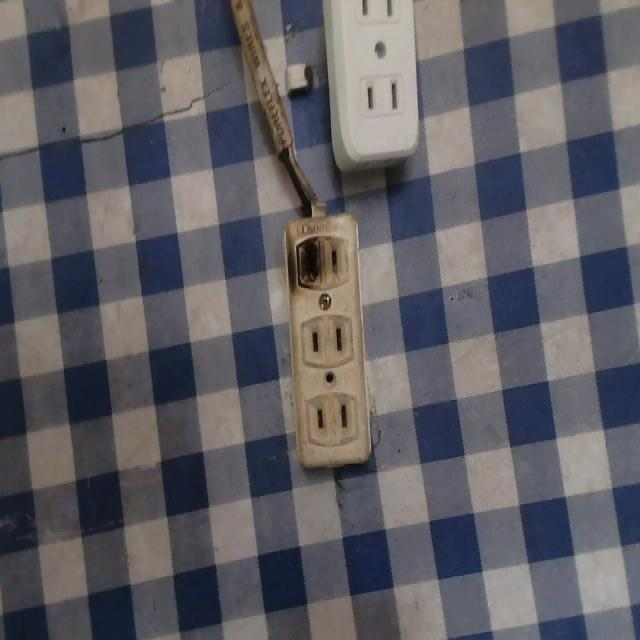-: (276, 229, 325, 296)
